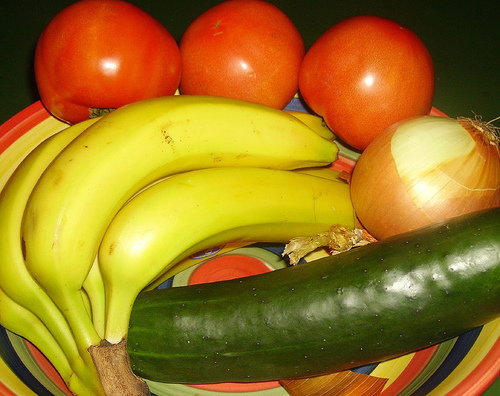cucumber: (126, 212, 497, 383)
